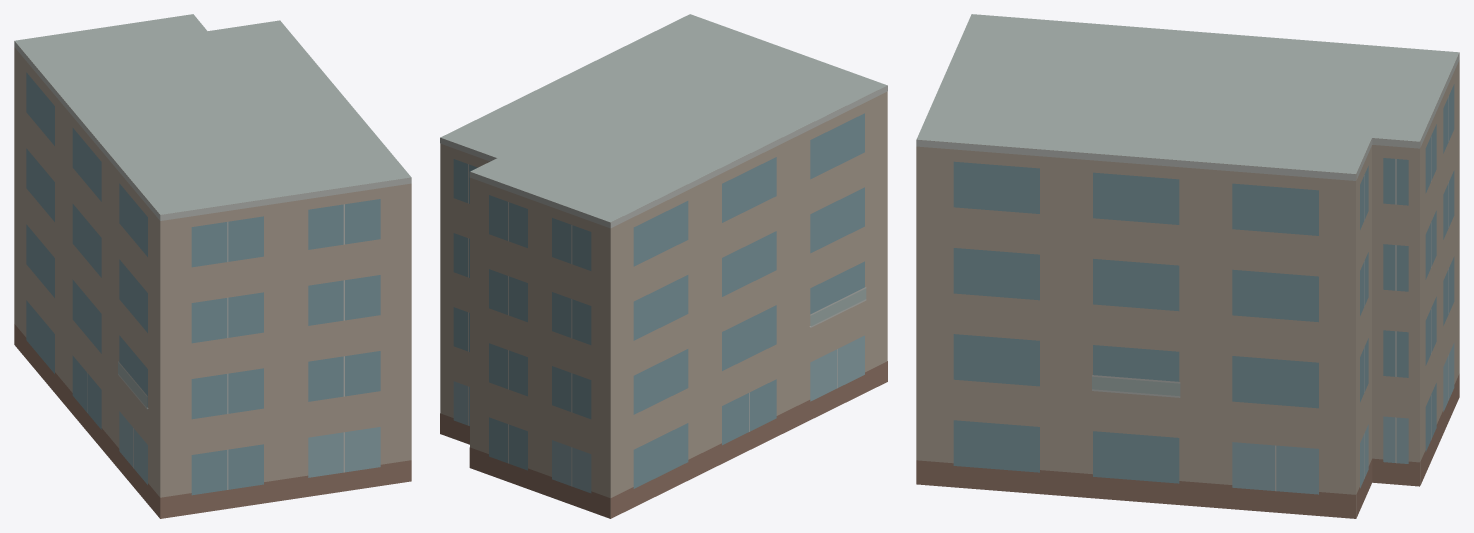
File: residential-04a9775f-90b6-425f-bd31-7978b28dcbf9.glb
3 renders of one model, left to right at view 1: azimuth 30°, elevation 25°; view 2: azimuth 150°, elevation 25°; view 3: azimuth 270°, elevation 25°, orthographic. The views are drawn at different scales.
Parts seen in each view (by area): view 1: residential-04a9775f-90b6-425f-bd31-7978b28dcbf9.tmp; view 2: residential-04a9775f-90b6-425f-bd31-7978b28dcbf9.tmp; view 3: residential-04a9775f-90b6-425f-bd31-7978b28dcbf9.tmp.
Boxes of the visible parts, x1,y1,x2,y2 form: residential-04a9775f-90b6-425f-bd31-7978b28dcbf9.tmp: (14, 14, 411, 518); residential-04a9775f-90b6-425f-bd31-7978b28dcbf9.tmp: (440, 14, 887, 518); residential-04a9775f-90b6-425f-bd31-7978b28dcbf9.tmp: (916, 14, 1459, 518).
Bounding box in the file's own units: 12.17 × 12.2 × 17.43.
